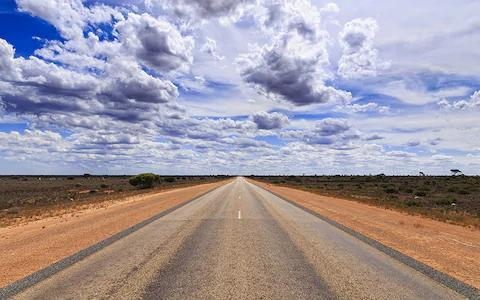cloud: (238, 48, 334, 109), (114, 14, 198, 74), (259, 7, 339, 59), (0, 56, 89, 101), (173, 116, 285, 147), (13, 2, 114, 36), (65, 129, 160, 163), (169, 0, 278, 27), (341, 25, 387, 80), (97, 100, 166, 131)
